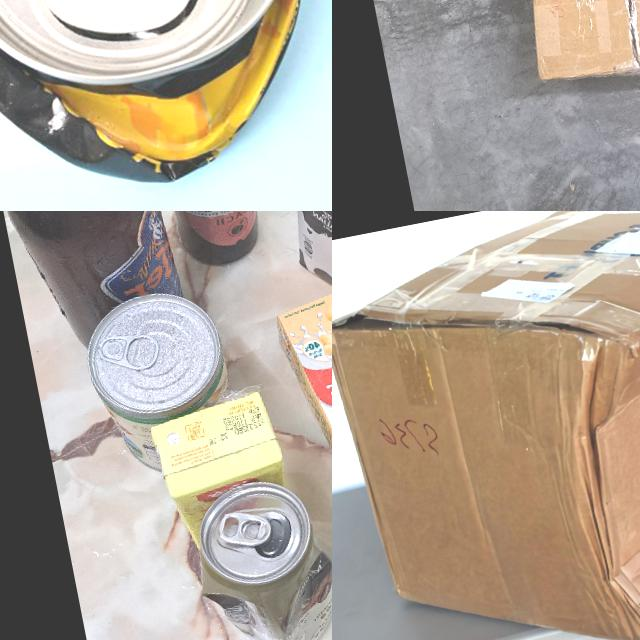aba de lata: (93, 323, 163, 382), (214, 503, 272, 551)
caixinha: (150, 386, 296, 556), (273, 276, 332, 526)
garrafa de vidro: (0, 211, 188, 358), (137, 211, 277, 273)
lata: (0, 0, 332, 211), (74, 280, 244, 481), (184, 468, 332, 640)
papelão: (332, 211, 640, 640), (475, 0, 640, 106)
